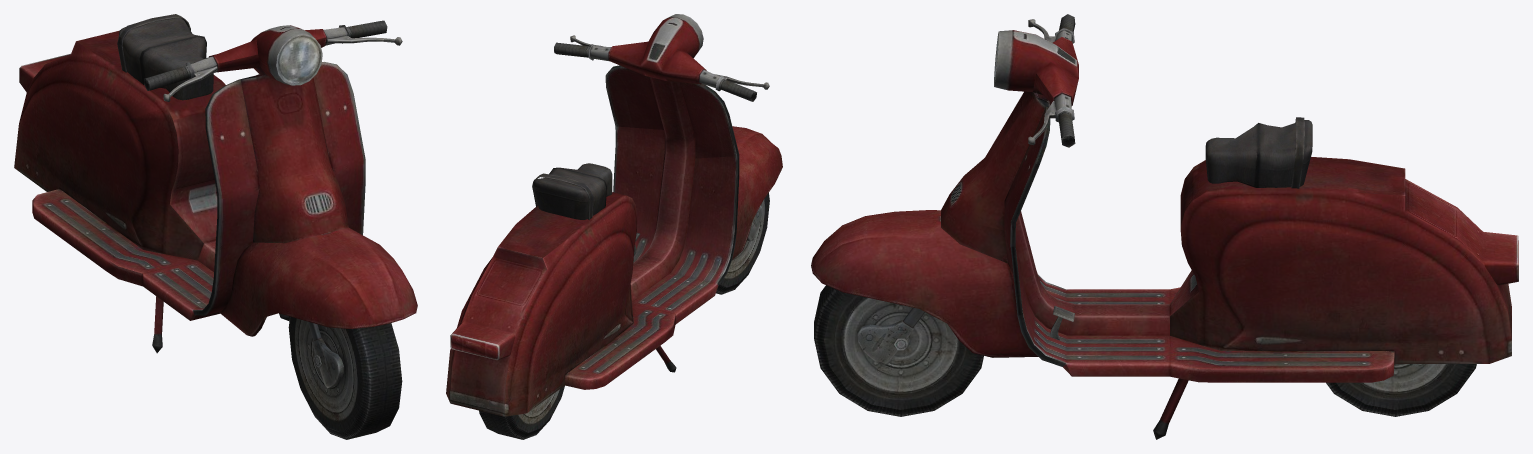
File: vespa_s.glb
The picture shows the model from 3 angles, left to right: view 1: azimuth 30°, elevation 25°; view 2: azimuth 150°, elevation 25°; view 3: azimuth 270°, elevation 25°; orthographic projection. The views are drawn at different scales.
Visible parts, largest first — view 1: Scooter Vespa; view 2: Scooter Vespa; view 3: Scooter Vespa.
Boxes of the visible parts, bbox=[...] form: Scooter Vespa: bbox=[14, 14, 417, 439]; Scooter Vespa: bbox=[446, 14, 782, 439]; Scooter Vespa: bbox=[811, 14, 1518, 439].
Bounding box in the file's own units: 0.7502 × 1.09 × 1.86.
1 material, 1 textured.
